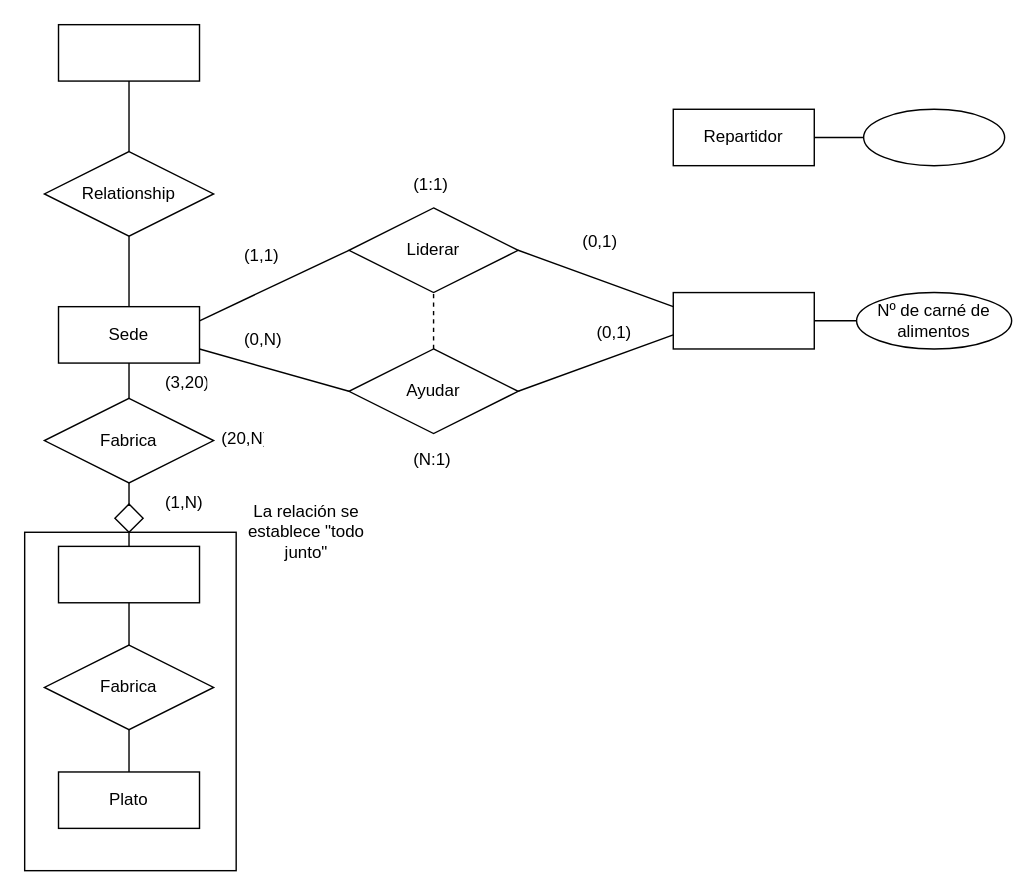
The diagram is 1036 pixels wide and 895 high, and some of its shapes have lost their labels. The shapes that lost their labels are listed below. From the top down, each one's box as (x1, y1, x2, y2) in pixels, then its label:
(57, 23, 200, 81): Trabajo
(862, 108, 1005, 166): Nº de licencia
(672, 291, 814, 349): Cocinero
(57, 545, 200, 603): Menú
